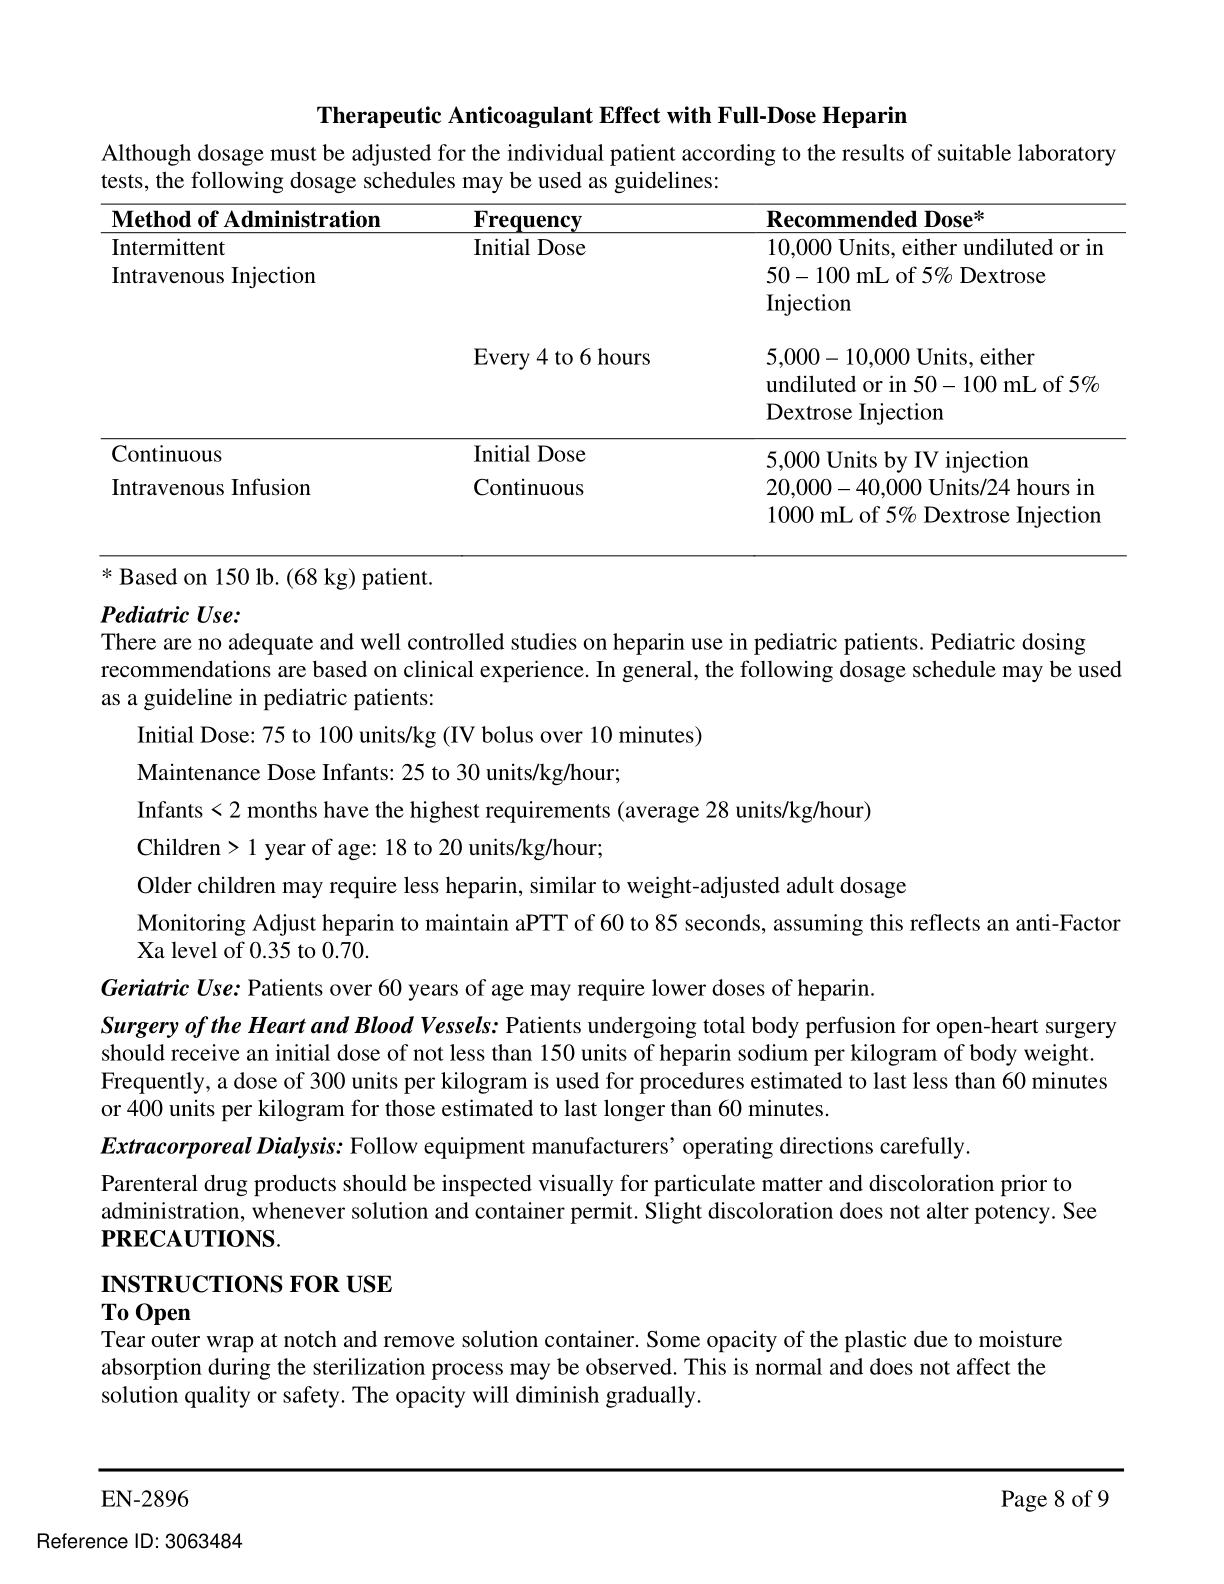partial_lined: (99, 201, 1128, 559)
